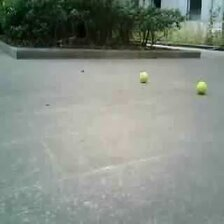tennis: (196, 81, 206, 92), (140, 72, 148, 83)
